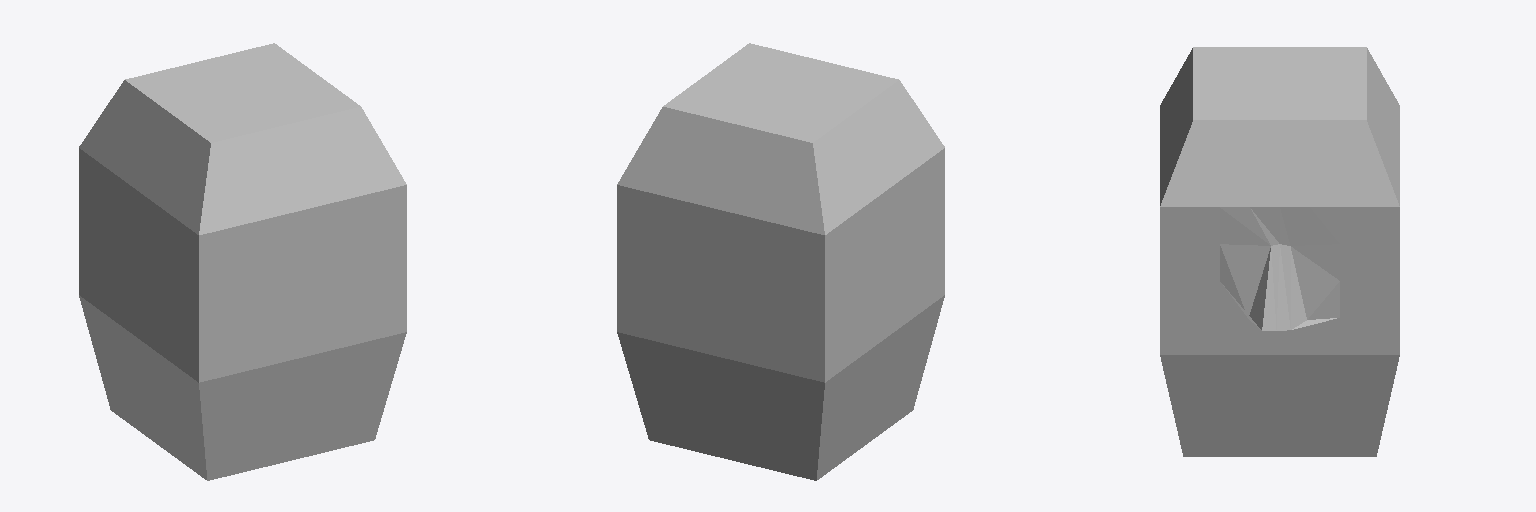
Rendered from head.obj.
3 renders of one model, left to right at view 1: azimuth 30°, elevation 25°; view 2: azimuth 150°, elevation 25°; view 3: azimuth 270°, elevation 25°, orthographic.
Visible parts, largest first — view 1: Cube; view 2: Cube; view 3: Cube.
Part boxes in pixels (left/top/right/bottom): Cube: left=79, top=43, right=406, bottom=480; Cube: left=617, top=43, right=944, bottom=480; Cube: left=1160, top=47, right=1399, bottom=456.
Size of the model in its own units: 0.5631 by 0.7627 by 0.5.